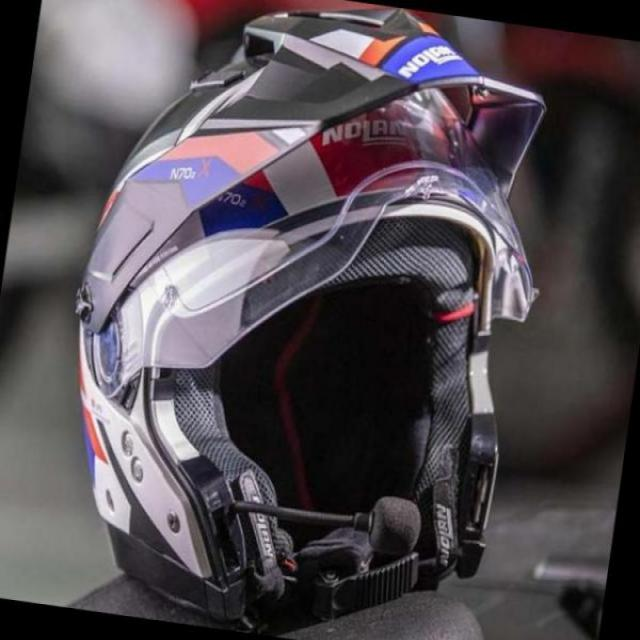Helmet: (70, 0, 543, 628)
